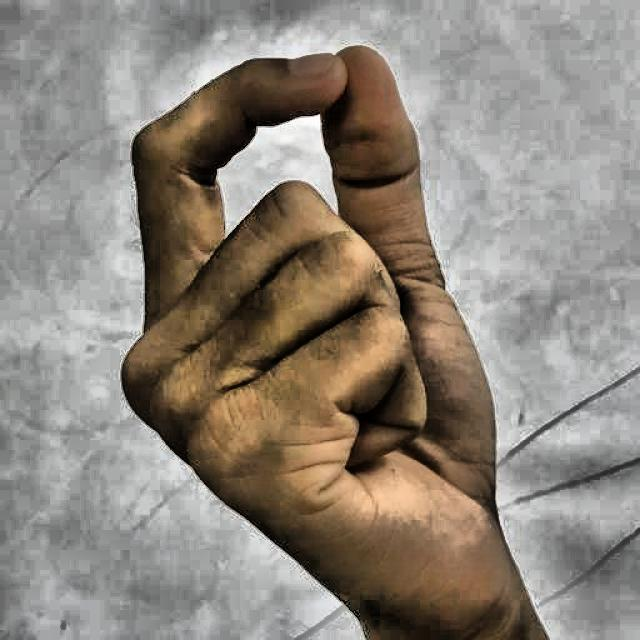Gha: (81, 31, 568, 640)
